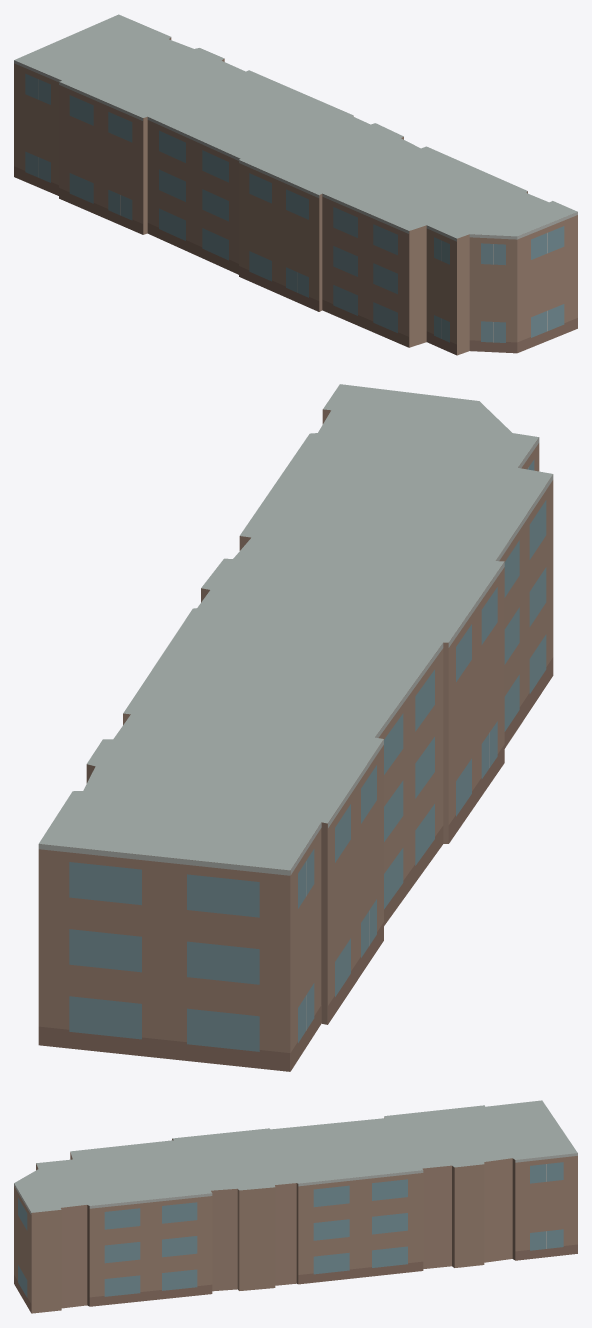
The model's file is survey-upis-32709786.glb.
3 views of the same model, one above another, from view 1: azimuth 30°, elevation 25°; view 2: azimuth 150°, elevation 25°; view 3: azimuth 270°, elevation 25° (orthographic). The views are drawn at different scales.
Parts seen in each view (by area): view 1: survey-upis-32709786.tmp; view 2: survey-upis-32709786.tmp; view 3: survey-upis-32709786.tmp.
Part boxes in pixels (bbox=[...]): survey-upis-32709786.tmp: bbox=[14, 14, 577, 355]; survey-upis-32709786.tmp: bbox=[38, 384, 553, 1071]; survey-upis-32709786.tmp: bbox=[14, 1100, 577, 1313].
Bounding box in the file's own units: 21.93 × 9.15 × 46.44.
